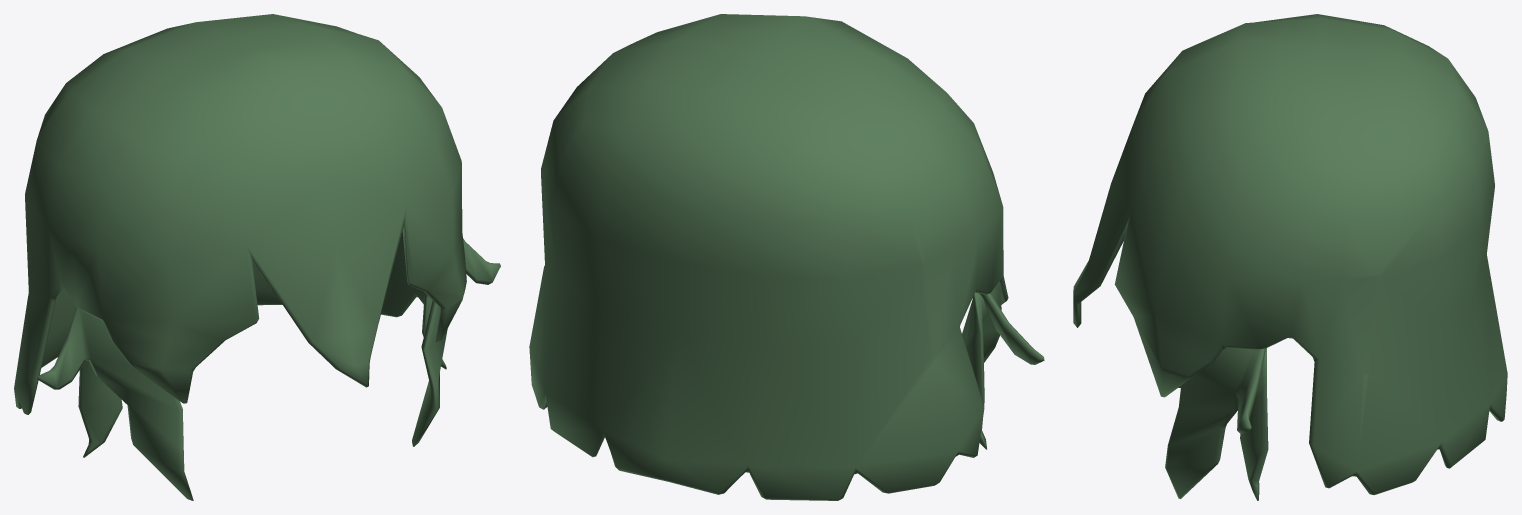
File: Fumo_Green.gltf
The picture shows the model from 3 angles, left to right: view 1: azimuth 30°, elevation 25°; view 2: azimuth 150°, elevation 25°; view 3: azimuth 270°, elevation 25°; orthographic projection. The views are drawn at different scales.
Parts seen in each view (by area): view 1: Fumo_Green; view 2: Fumo_Green; view 3: Fumo_Green.
Part boxes in pixels (box(x1,y1,x2,y2)): Fumo_Green: box(14, 14, 500, 500); Fumo_Green: box(529, 14, 1044, 500); Fumo_Green: box(1073, 14, 1507, 500).
Size of the model in its own units: 1.18 by 0.9524 by 0.9326.
